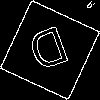D: (25, 25, 75, 81)
